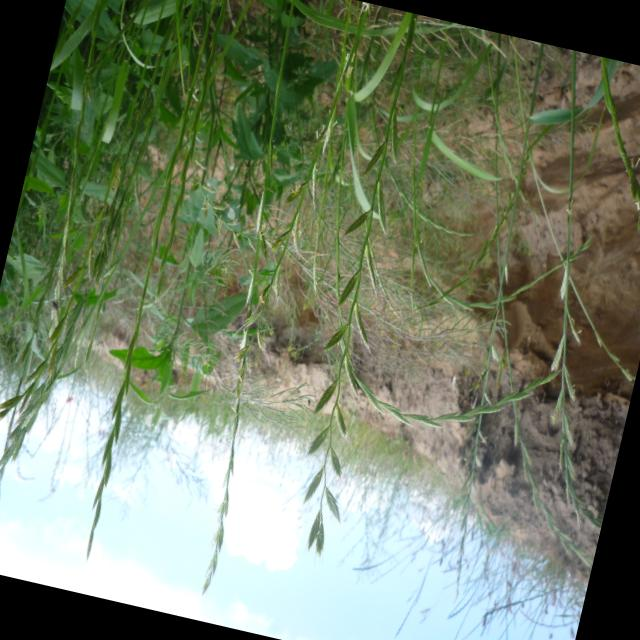Lolium: (280, 138, 424, 557), (164, 192, 308, 588), (70, 130, 191, 555), (0, 184, 123, 583), (416, 243, 542, 596), (308, 306, 568, 452), (505, 237, 640, 502), (598, 153, 640, 264)
